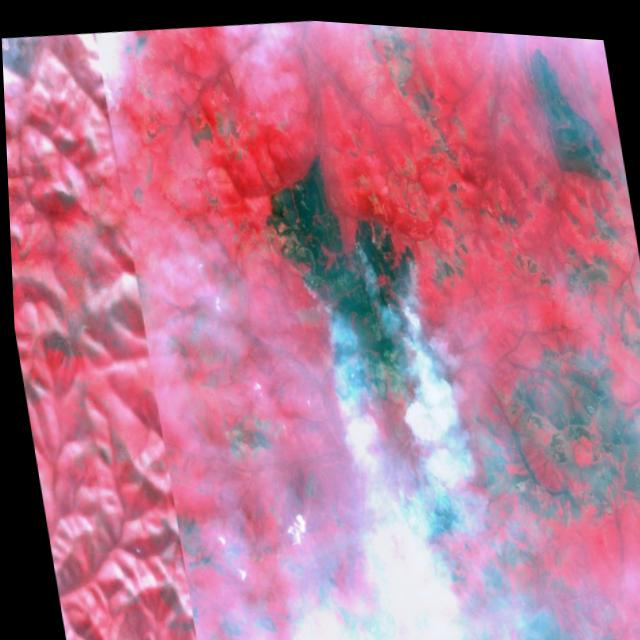fire: (290, 254, 329, 315), (337, 223, 381, 271), (396, 240, 423, 304)
